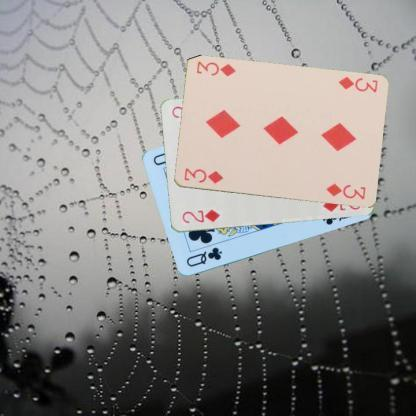2d: (179, 207, 221, 225)
3d: (336, 74, 380, 94), (182, 166, 224, 186)
Qc: (184, 246, 224, 268)
